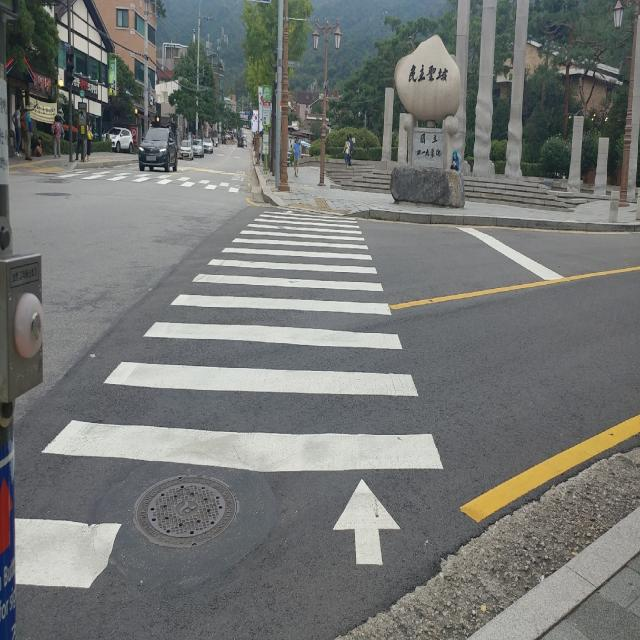횡단보도: (15, 209, 444, 589), (70, 172, 240, 192)
